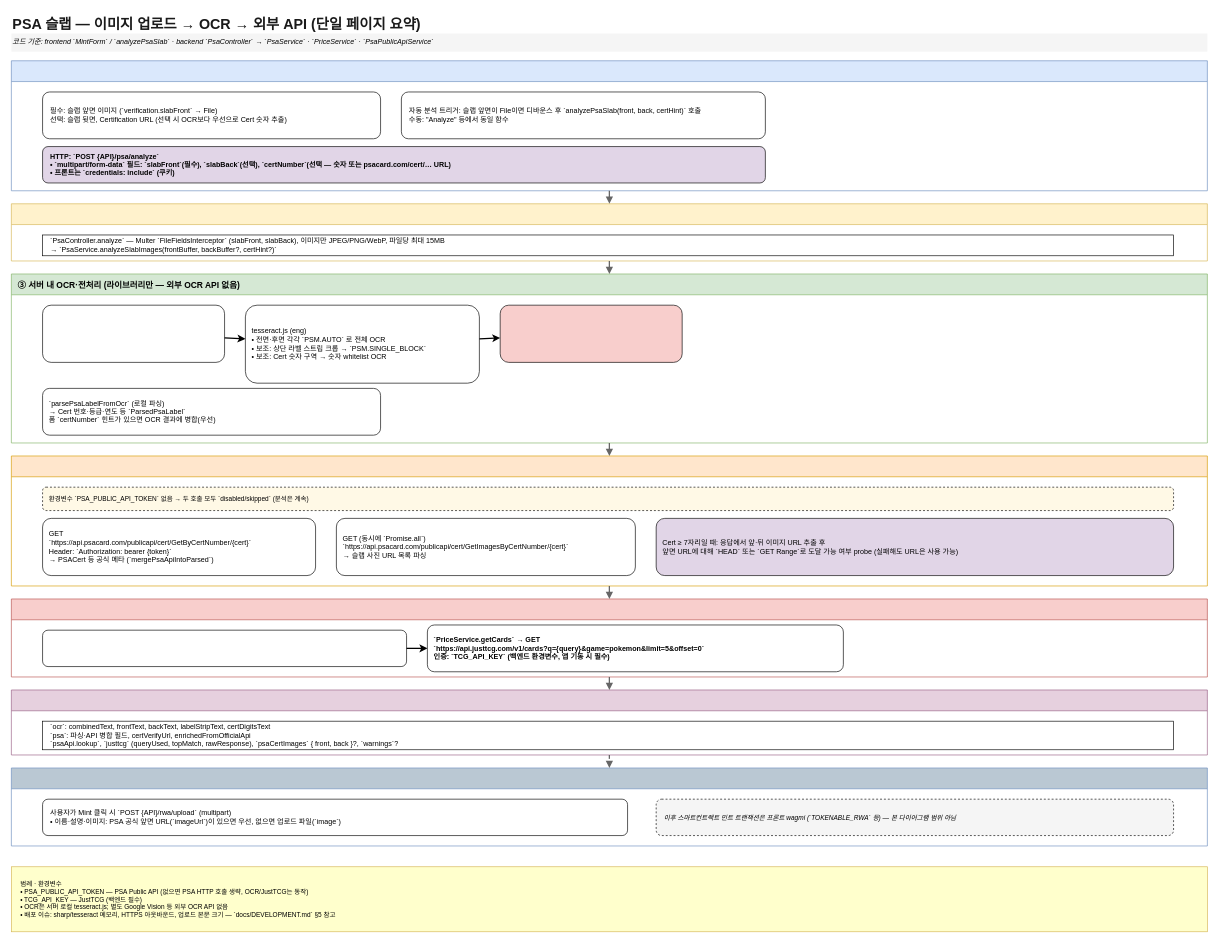
Image size: 1219x943. Some labels were removed from this diagram. The shapes that lost their labels are listed below. From the top down, each one's box as (x1, y1, x2, y2) in pixels, then its label:
(11, 60, 1207, 191): ① 브라우저 (Next.js) — 슬랩 이미지 선택
(11, 203, 1207, 261): ② 백엔드 진입 (NestJS)
(42, 305, 225, 362): sharp • 앞(·뒤) 버퍼: 리사이즈(최대 2200px), 그레이스케일, normalize → PNG
(500, 305, 682, 362): 텍스트 합본 front + back + labelStrip + certDigits (너무 길면 앞 150,000자로 자름)
(11, 455, 1207, 586): ④ 외부 API — PSA Public API (병렬) + 이미지 검증
(42, 630, 407, 667): `buildJustTcgSearchQueryAfterMerge` 로 검색어 문자열 생성 (PSA 병합 결과·OCR 텍스트 기반)
(11, 598, 1207, 677): ⑤ 외부 API — JustTCG (포케몬 카드 검색)
(11, 689, 1207, 755): ⑥ 응답 JSON (`PsaAnalyzeResult`) — 프론트가 필드 자동 채움·민팅 이미지 후보로 사용
(11, 767, 1207, 846): ⑦ 민팅 단계 (분석 완료 후) — 별도 API
